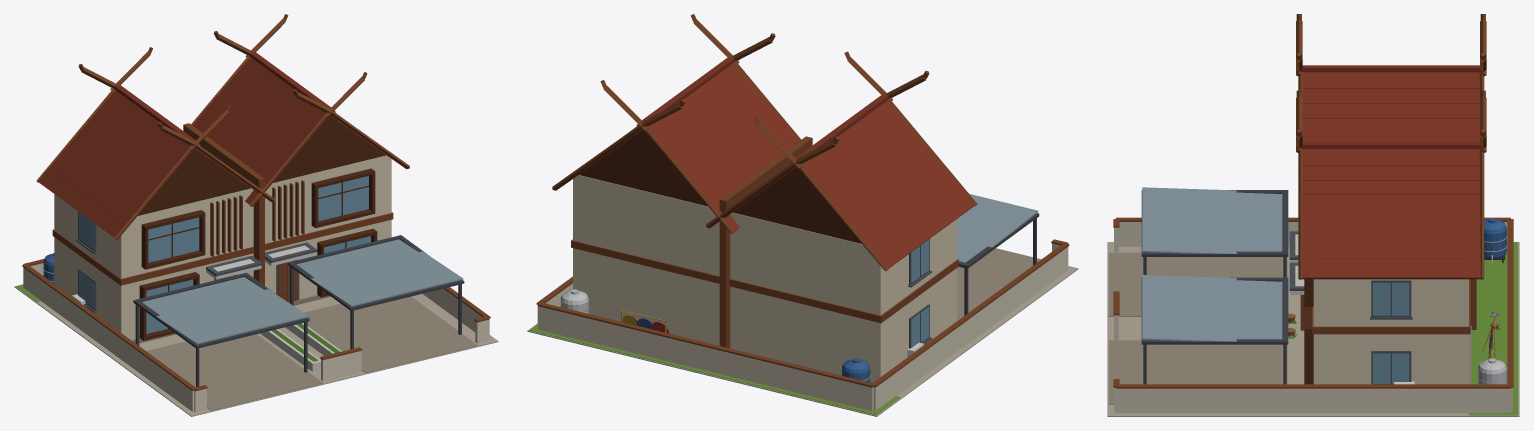
The model's file is home_2.glb.
3 views of the same model, side by side, from view 1: azimuth 30°, elevation 25°; view 2: azimuth 150°, elevation 25°; view 3: azimuth 270°, elevation 25° (orthographic). The views are drawn at different scales.
Parts seen in each view (by area): view 1: body; view 2: body; view 3: body.
Part boxes in pixels (bbox=[...]): body: bbox=[14, 14, 498, 416]; body: bbox=[527, 14, 1078, 416]; body: bbox=[1107, 14, 1519, 416].
Bounding box in the file's own units: 15.9 × 11.22 × 15.9.
